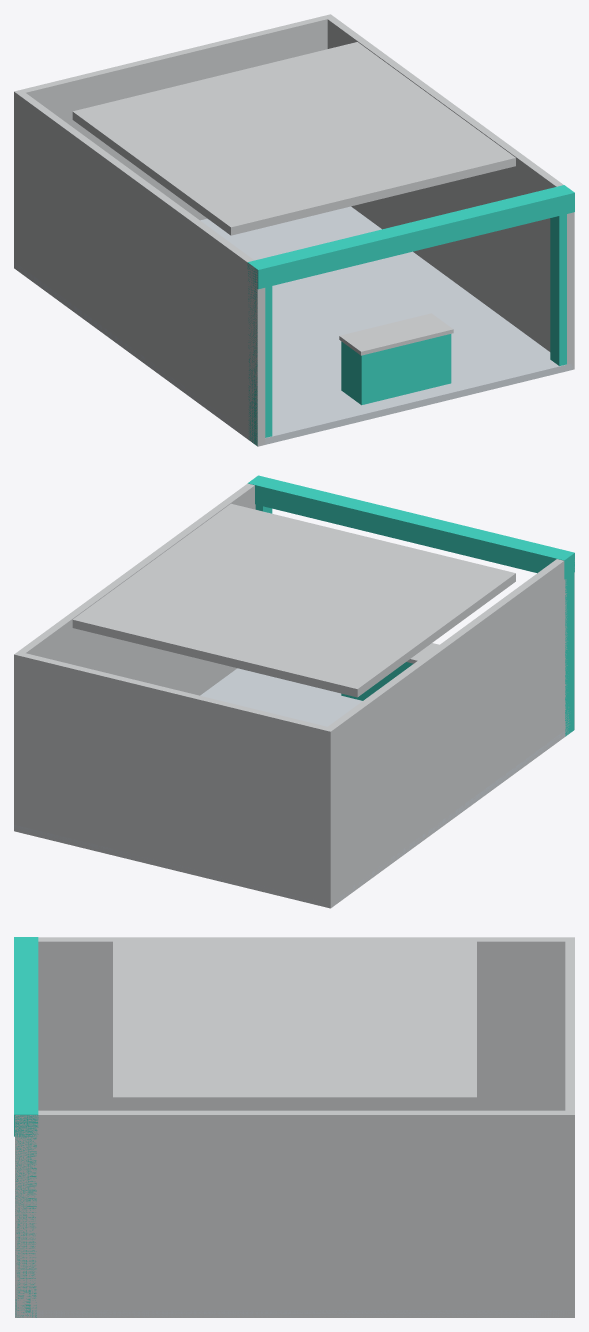
The picture shows the model from 3 angles, top to bottom: view 1: azimuth 30°, elevation 25°; view 2: azimuth 150°, elevation 25°; view 3: azimuth 270°, elevation 25°; orthographic projection. The views are drawn at different scales.
Parts seen in each view (by area): view 1: Exhibition Booth Concept; view 2: Exhibition Booth Concept; view 3: Exhibition Booth Concept.
Boxes of the visible parts, <box> form: Exhibition Booth Concept: <box>14,14,574,446</box>; Exhibition Booth Concept: <box>14,475,574,908</box>; Exhibition Booth Concept: <box>14,937,574,1317</box>.
Size of the model in its own units: 6 by 3.34 by 8.01.
